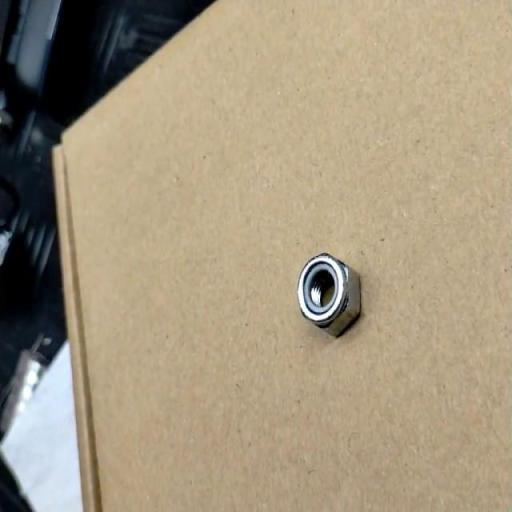Nut: (295, 252, 362, 339)
